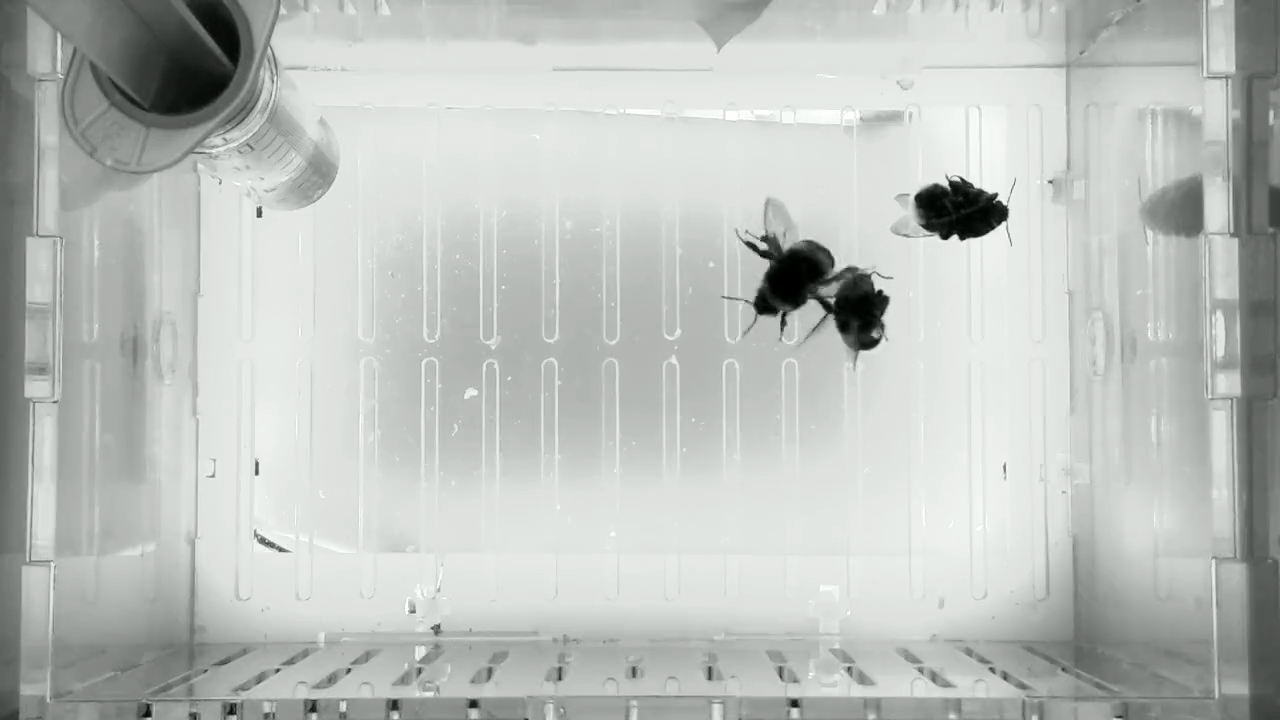bee_alive: (719, 196, 872, 345)
bee_dead: (885, 169, 1022, 247), (834, 261, 896, 374)
feeder: (205, 60, 344, 217)
